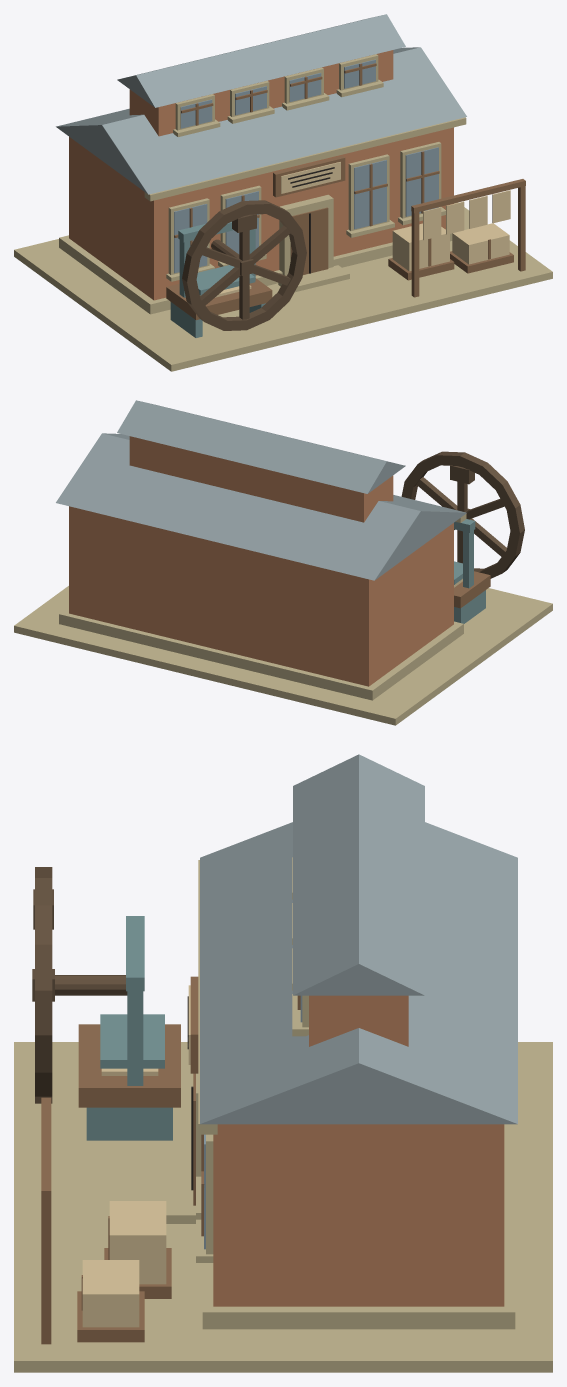
The model's file is era2-printworks-CikkqRFh.glb.
The picture shows the model from 3 angles, top to bottom: view 1: azimuth 30°, elevation 25°; view 2: azimuth 150°, elevation 25°; view 3: azimuth 270°, elevation 25°; orthographic projection. The views are drawn at different scales.
Visible parts, largest first — view 1: PressHall_MainRoof, PressHall_Yard, PressHall_Workroom, PressHall_LanternRoof, PressHall_Flywheel, PressHall_Clerestory, PressHall_Foundation, PressHall_Cornice, PressHall_Window2Glass, PressHall_PaperStack1, PressHall_Window3Glass, PressHall_PaperStack0 (+31 smaller); view 2: PressHall_Workroom, PressHall_MainRoof, PressHall_Yard, PressHall_LanternRoof, PressHall_Clerestory, PressHall_Foundation, PressHall_Flywheel, PressHall_PressBed, PressHall_PressUpright, PressHall_PressLeg; view 3: PressHall_MainRoof, PressHall_Yard, PressHall_Workroom, PressHall_LanternRoof, PressHall_Foundation, PressHall_PressBed, PressHall_Flywheel, PressHall_Clerestory, PressHall_PaperStack0, PressHall_PaperStack1, PressHall_PressLeg.001, PressHall_Platen (+11 smaller).
Boxes of the visible parts, bbox=[...] form: PressHall_MainRoof: bbox=[56, 47, 466, 194]; PressHall_Yard: bbox=[14, 202, 552, 371]; PressHall_Workroom: bbox=[69, 127, 453, 300]; PressHall_LanternRoof: bbox=[117, 14, 405, 107]; PressHall_Flywheel: bbox=[182, 200, 306, 330]; PressHall_Clerestory: bbox=[129, 50, 393, 136]; PressHall_Foundation: bbox=[59, 229, 452, 314]; PressHall_Cornice: bbox=[144, 117, 466, 201]; PressHall_Window2Glass: bbox=[354, 160, 386, 229]; PressHall_PaperStack1: bbox=[452, 223, 509, 264]; PressHall_Window3Glass: bbox=[405, 147, 438, 216]; PressHall_PaperStack0: bbox=[392, 223, 449, 271]; PressHall_Workroom: bbox=[69, 506, 453, 686]; PressHall_MainRoof: bbox=[56, 433, 466, 580]; PressHall_Yard: bbox=[14, 586, 552, 725]; PressHall_LanternRoof: bbox=[117, 400, 405, 493]; PressHall_Clerestory: bbox=[129, 436, 393, 522]; PressHall_Foundation: bbox=[59, 607, 463, 700]; PressHall_Flywheel: bbox=[401, 451, 524, 578]; PressHall_PressBed: bbox=[454, 571, 490, 608]; PressHall_PressUpright: bbox=[463, 530, 473, 588]; PressHall_PressLeg: bbox=[454, 590, 485, 623]; PressHall_MainRoof: bbox=[200, 822, 517, 1124]; PressHall_Yard: bbox=[14, 1042, 552, 1372]; PressHall_Workroom: bbox=[213, 1124, 504, 1306]; PressHall_LanternRoof: bbox=[293, 754, 424, 995]; PressHall_Foundation: bbox=[202, 1124, 515, 1329]; PressHall_PressBed: bbox=[78, 1024, 180, 1107]; PressHall_Flywheel: bbox=[32, 867, 54, 1103]; PressHall_Clerestory: bbox=[309, 995, 408, 1046]; PressHall_PaperStack0: bbox=[109, 1201, 166, 1284]; PressHall_PaperStack1: bbox=[82, 1260, 139, 1327]; PressHall_PressLeg.001: bbox=[86, 1107, 172, 1140]; PressHall_Platen: bbox=[100, 1014, 164, 1068].
Bounding box in the file's own units: 14 × 7.25 × 10.
